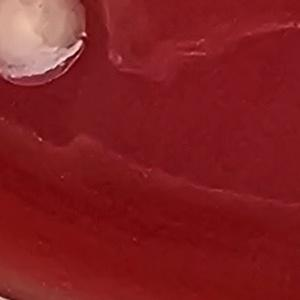colony: (0, 0, 94, 100)
